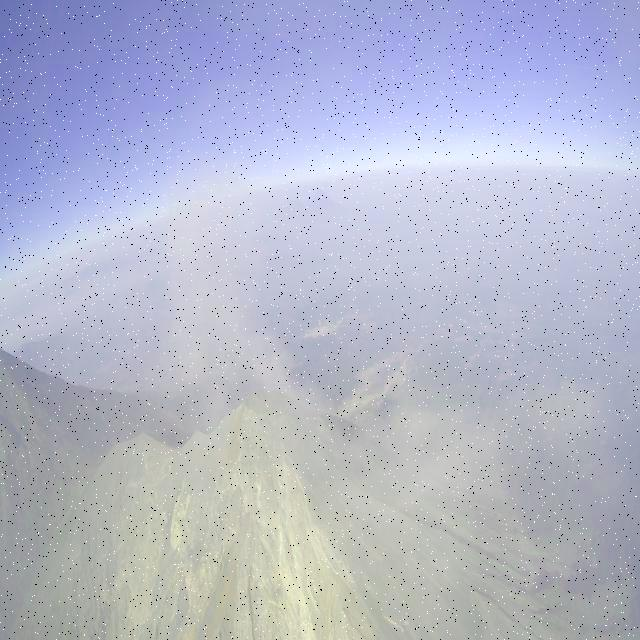Summit: (174, 382, 353, 512)
